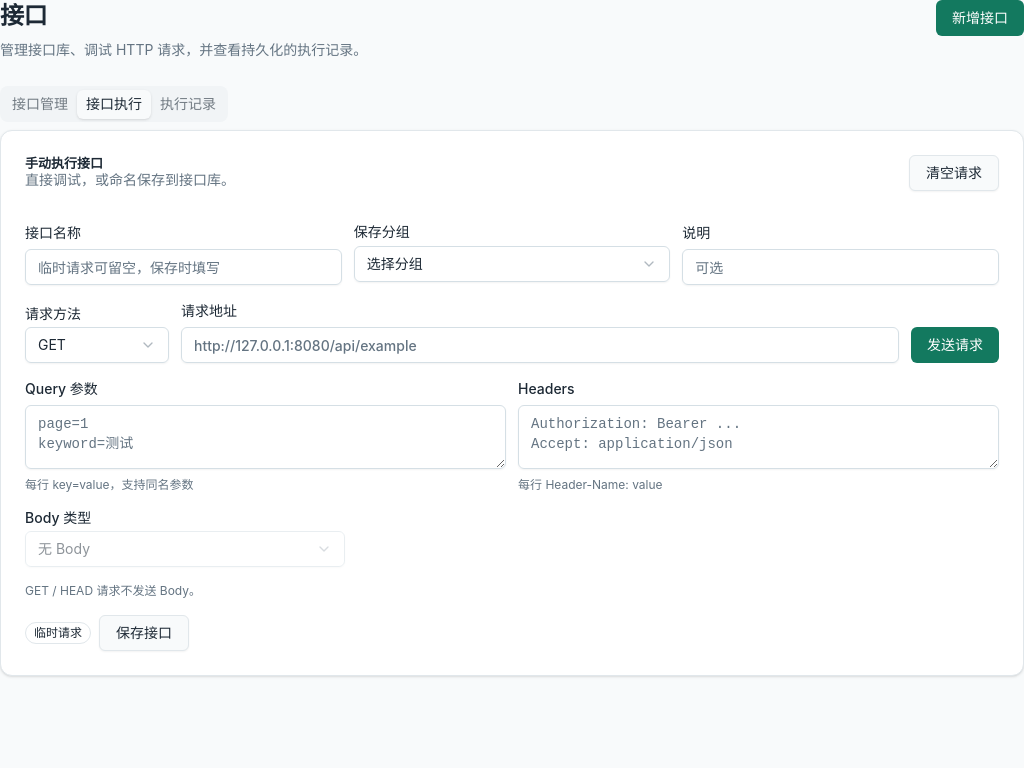
Test: request workspace › shows a persisted transport failure instead of losing the run
Type "http://localhost/unreachable" into the field labelled "请求地址" at (540, 345), box [181,327,899,363]
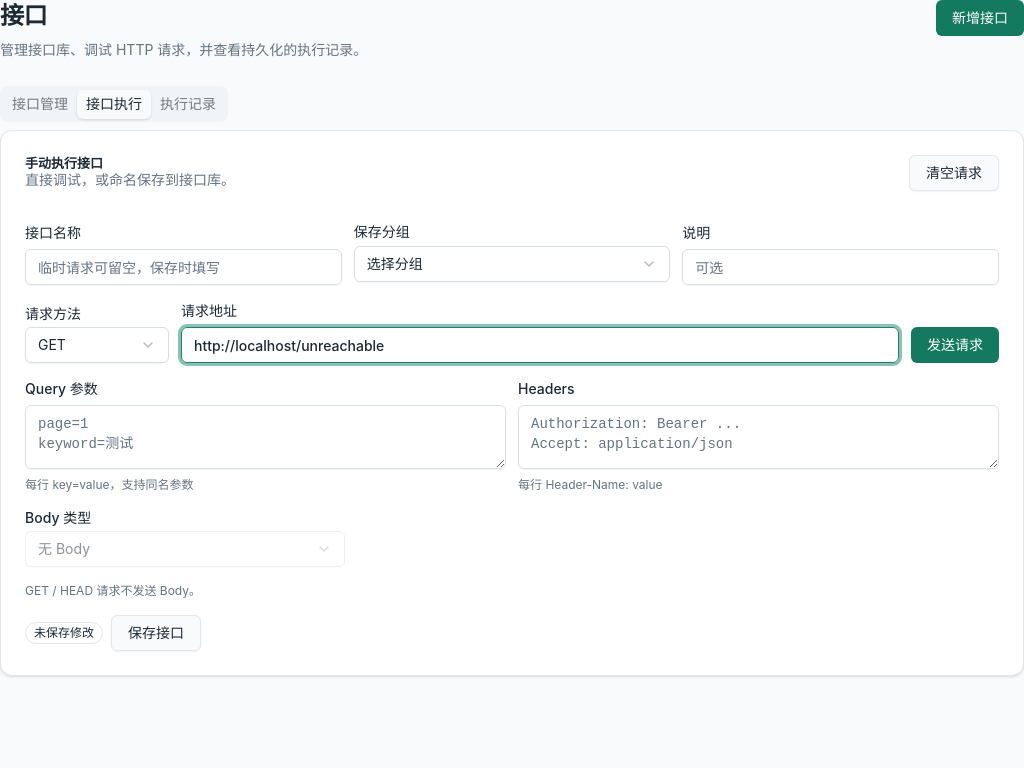
Click the button "发送请求" at (955, 345), box [911,327,999,363]
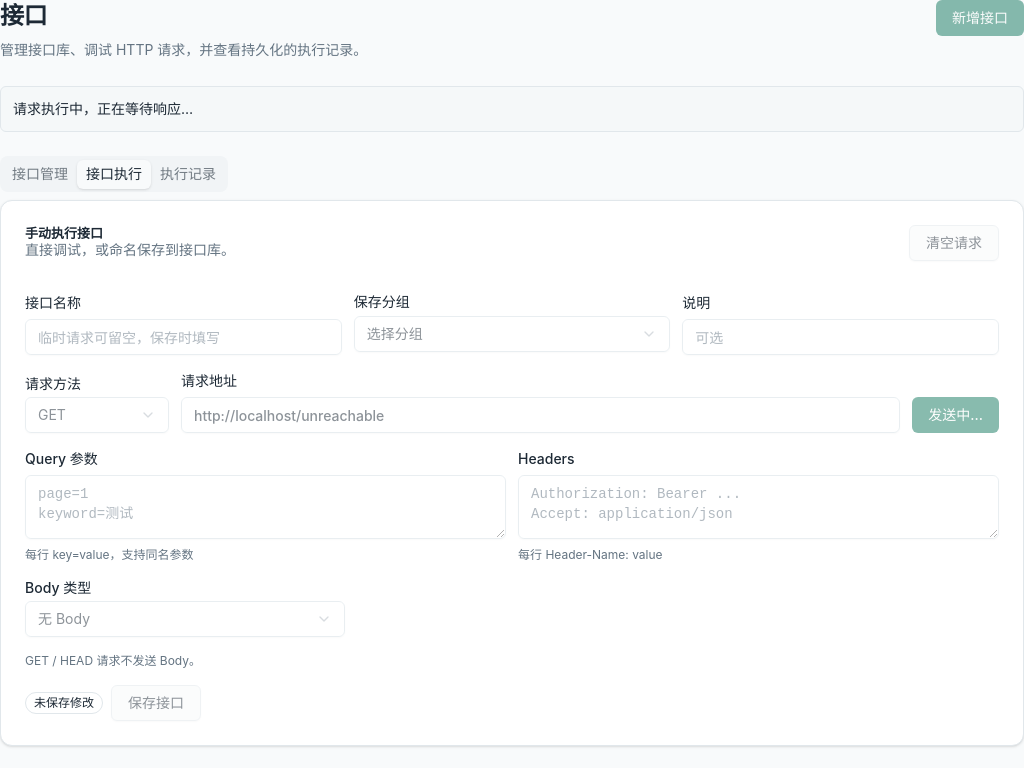
Click the button named "发送请求" at (956, 415), box [912,397,999,433]
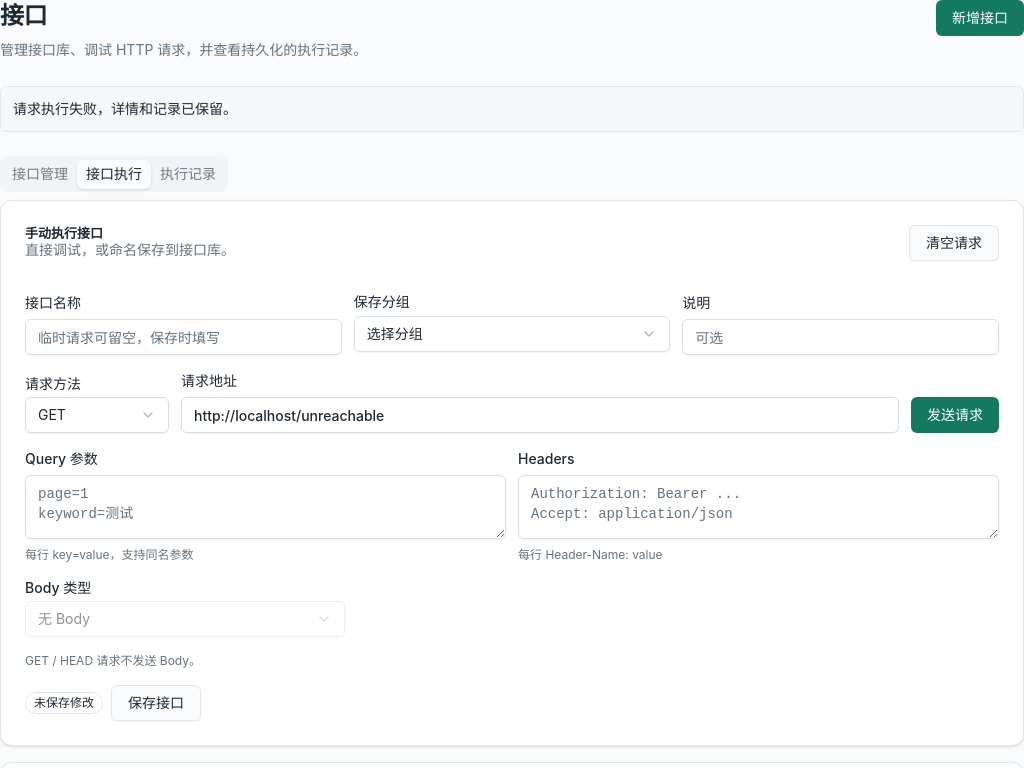
Expected: the text "请求执行失败，详情和记录已保留。" is shown, [0,86,1023,132]
